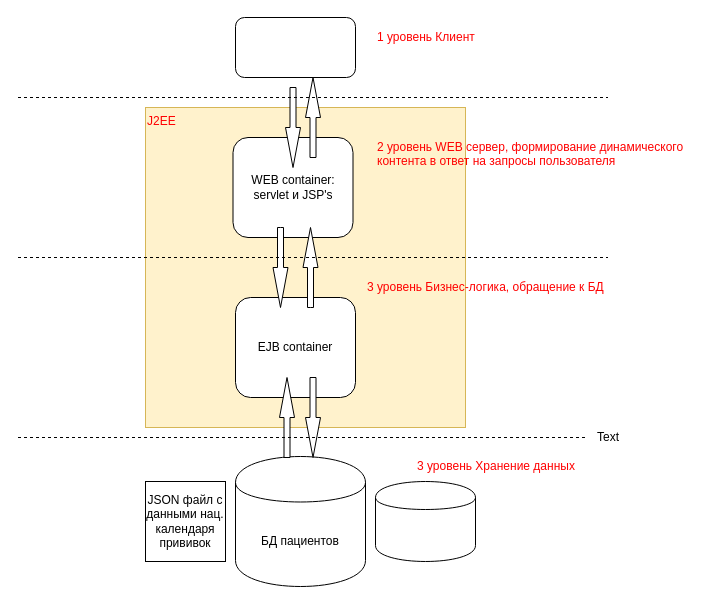
The diagram is 712 pixels wide and 604 high, and some of its shapes have lost their labels. Each missing label, with the box of its shape:
БД пользователей: (374, 480, 476, 562)
Клиентский UI: (234, 16, 356, 78)
